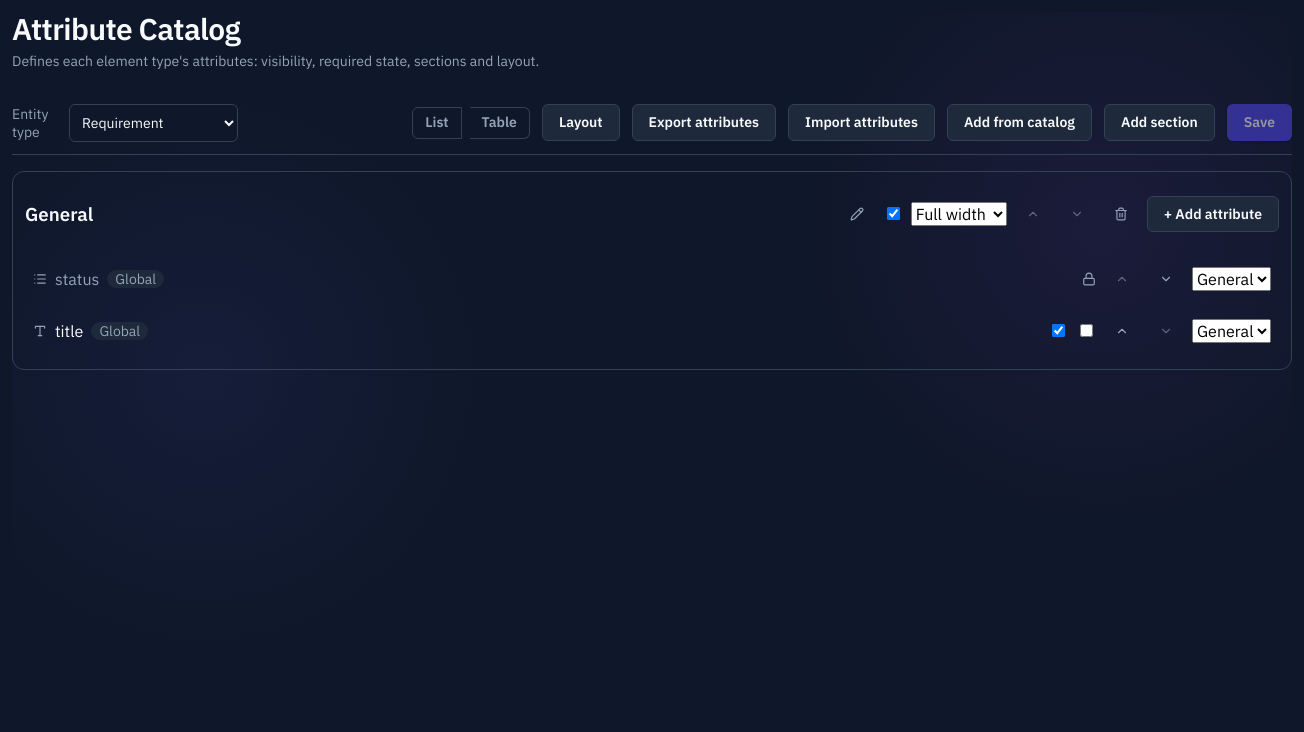
Test case: AttributeEditorPage › rejects an empty section name typed into the inspector instead of round-tripping it to the backend
Click the button with test id "attribute-row-title": point(120, 331) [25,305,1279,357]
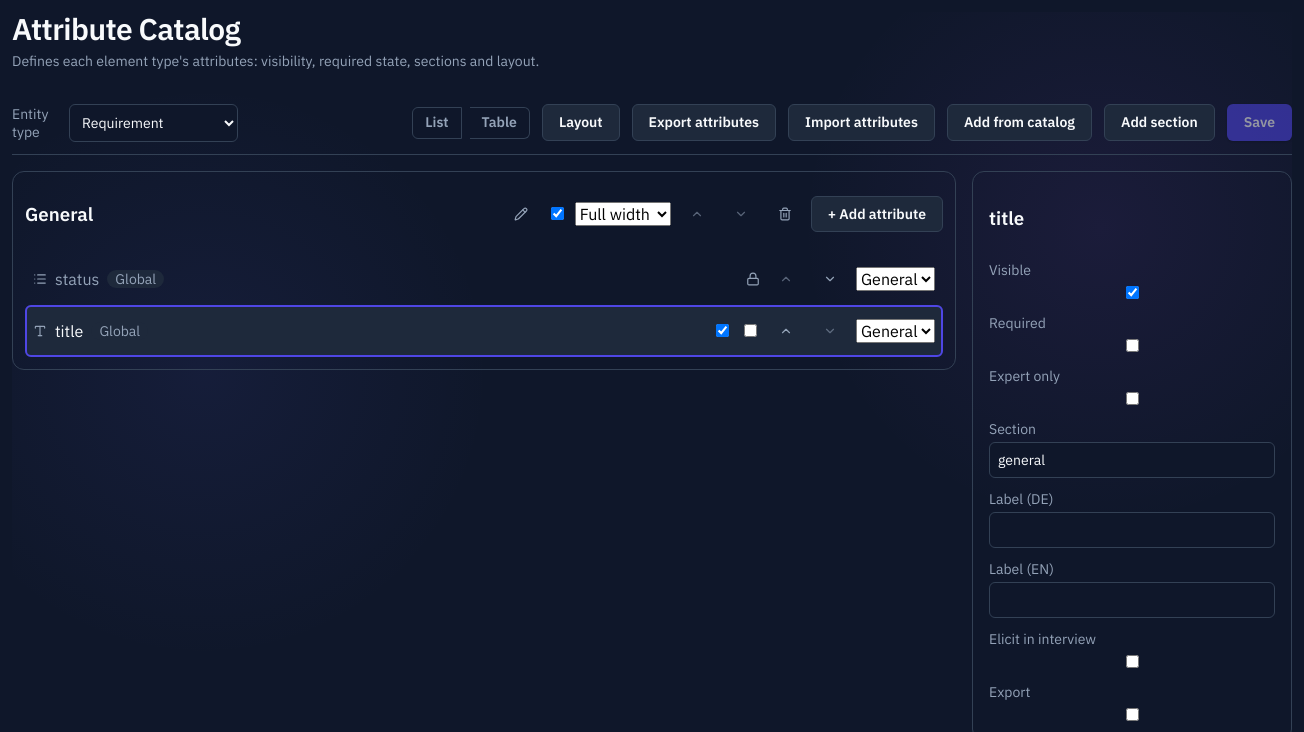
Clear the field with test id "attribute-inspector-section": point(1132, 460) [989,442,1275,478]
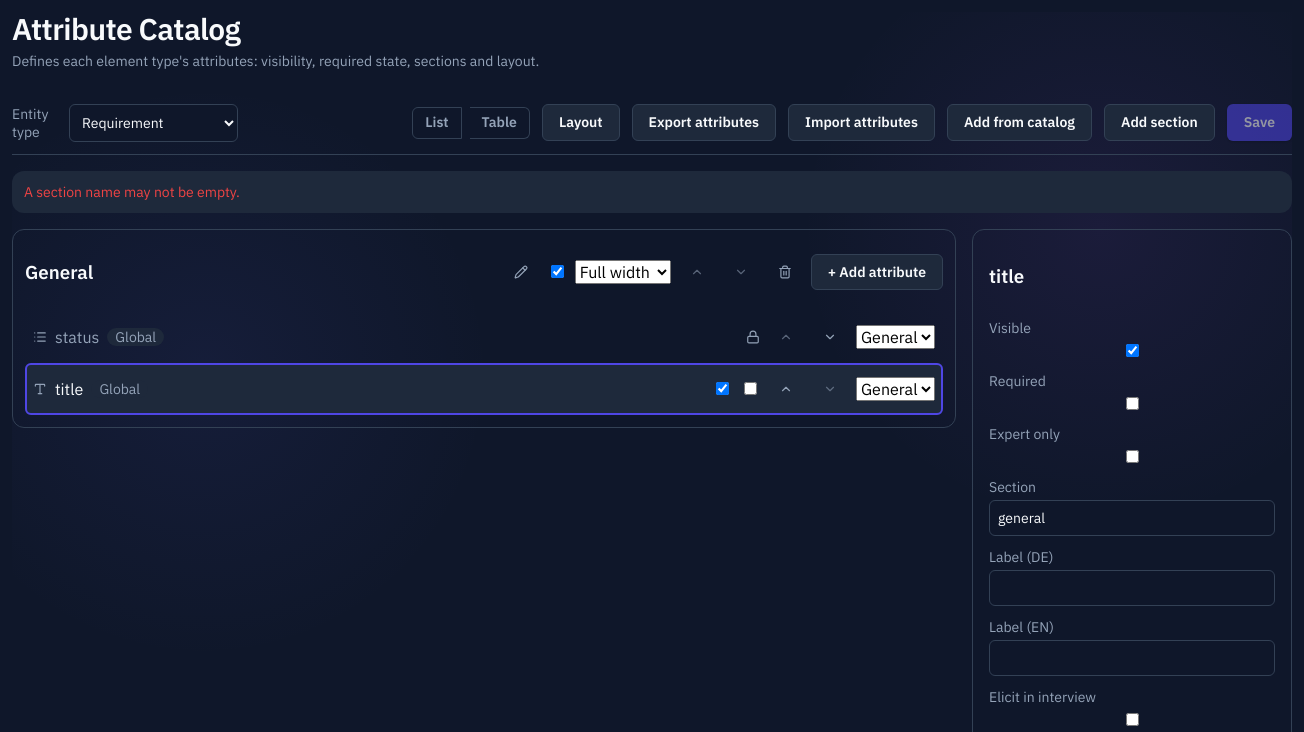
Expected: the element with test id "attribute-section-general" is shown, [12,228,956,428]
Now the message with test id "attribute-editor-error" shows "may not be empty", box [24,182,240,200]
